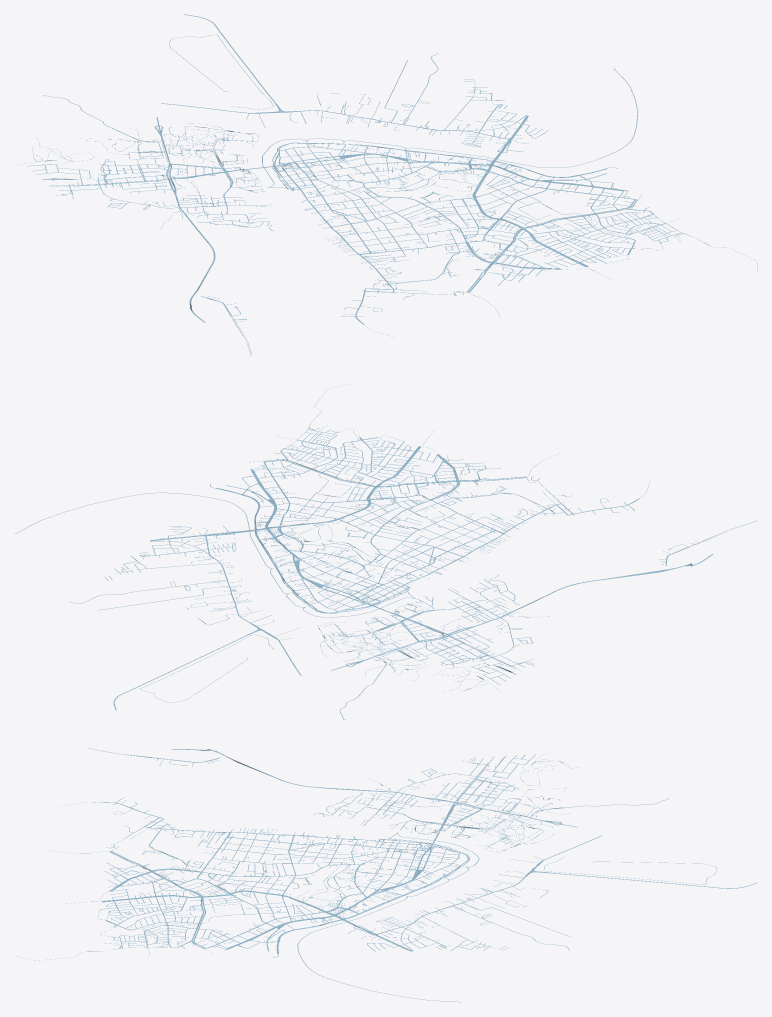
File: roads.glb
3 views of the same model, one above another, from view 1: azimuth 30°, elevation 25°; view 2: azimuth 150°, elevation 25°; view 3: azimuth 270°, elevation 25° (orthographic). The views are drawn at different scales.
Visible parts, largest first — view 1: roads; view 2: roads; view 3: roads.
Part boxes in pixels (x1,y1,x2,y2): roads: [20, 14, 757, 355]; roads: [14, 384, 756, 719]; roads: [16, 748, 757, 1002].
Bounding box in the file's own units: 5193 × 78.8 × 6455.
